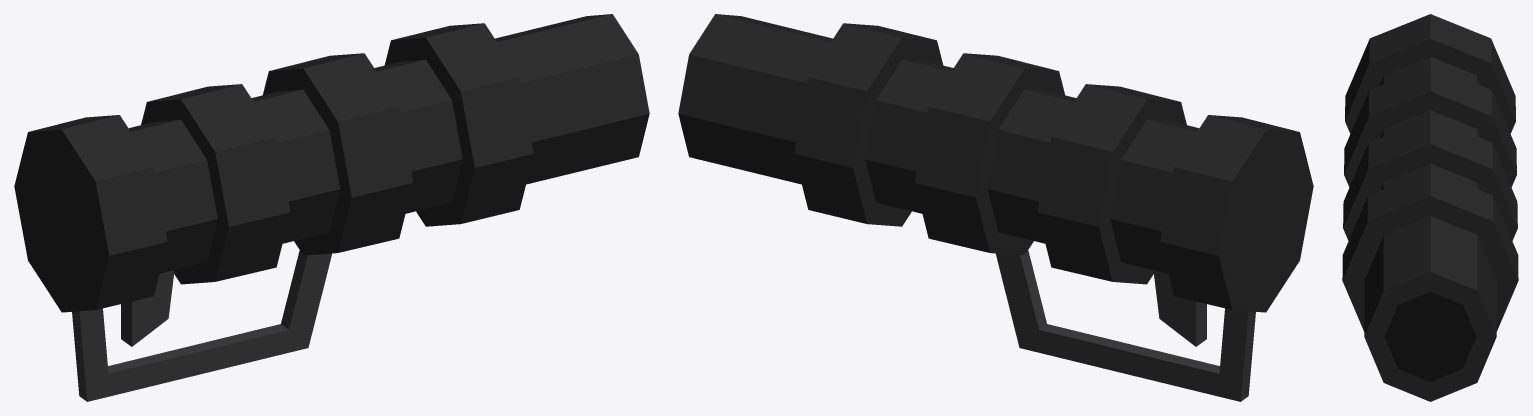
The model's file is Accesories_GranadeLauncher.FBX.
3 renders of one model, left to right at view 1: azimuth 30°, elevation 25°; view 2: azimuth 150°, elevation 25°; view 3: azimuth 270°, elevation 25°, orthographic. The views are drawn at different scales.
Parts seen in each view (by area): view 1: Accesories_GranadeLauncher; view 2: Accesories_GranadeLauncher; view 3: Accesories_GranadeLauncher.
Part boxes in pixels (x1,y1,x2,y2): Accesories_GranadeLauncher: [14, 14, 649, 401]; Accesories_GranadeLauncher: [678, 14, 1313, 401]; Accesories_GranadeLauncher: [1342, 14, 1518, 401].
Size of the model in its own units: 118 by 56.96 by 36.49.
